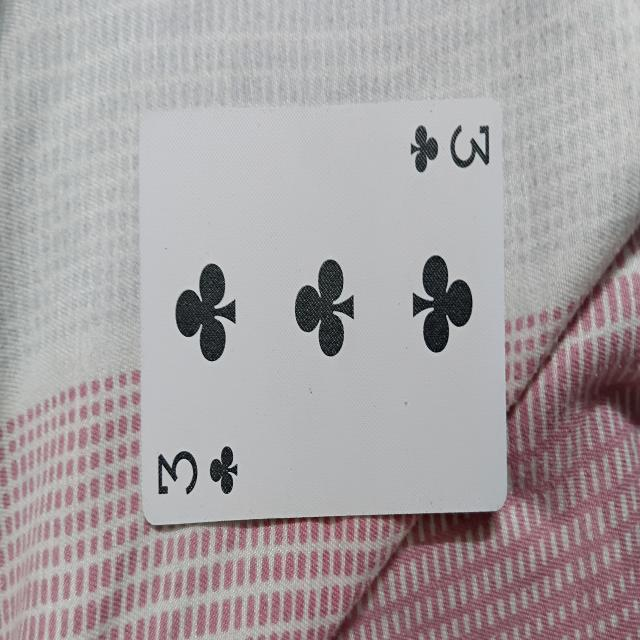3C: (138, 94, 506, 527)
